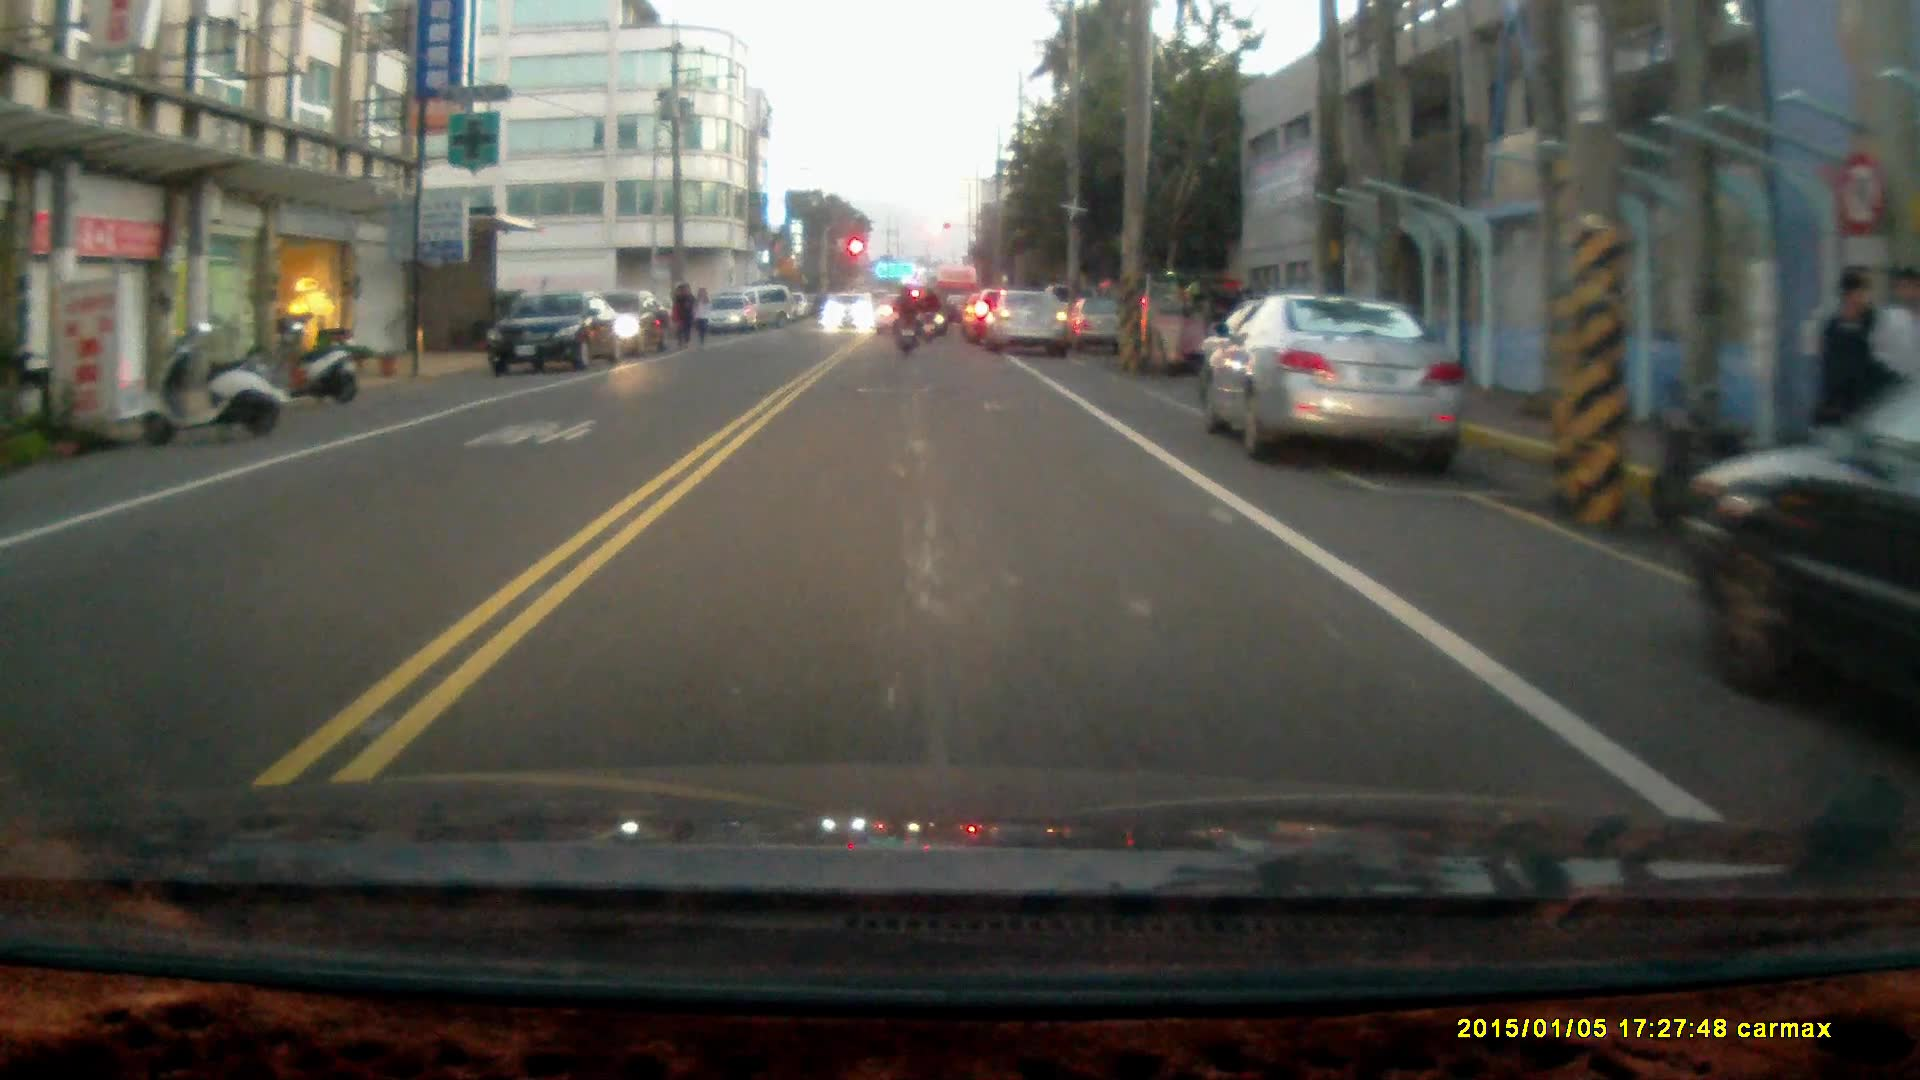pedestrian: (1810, 269, 1870, 491), (1862, 268, 1911, 471), (670, 281, 693, 350), (690, 284, 711, 351)
rider: (889, 282, 921, 358), (914, 284, 942, 346)
vehicle: (1678, 368, 1920, 738), (1205, 294, 1467, 469), (484, 293, 625, 383), (1112, 272, 1223, 374), (983, 288, 1072, 356), (819, 293, 874, 338)
